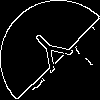Y: (25, 25, 81, 81)
